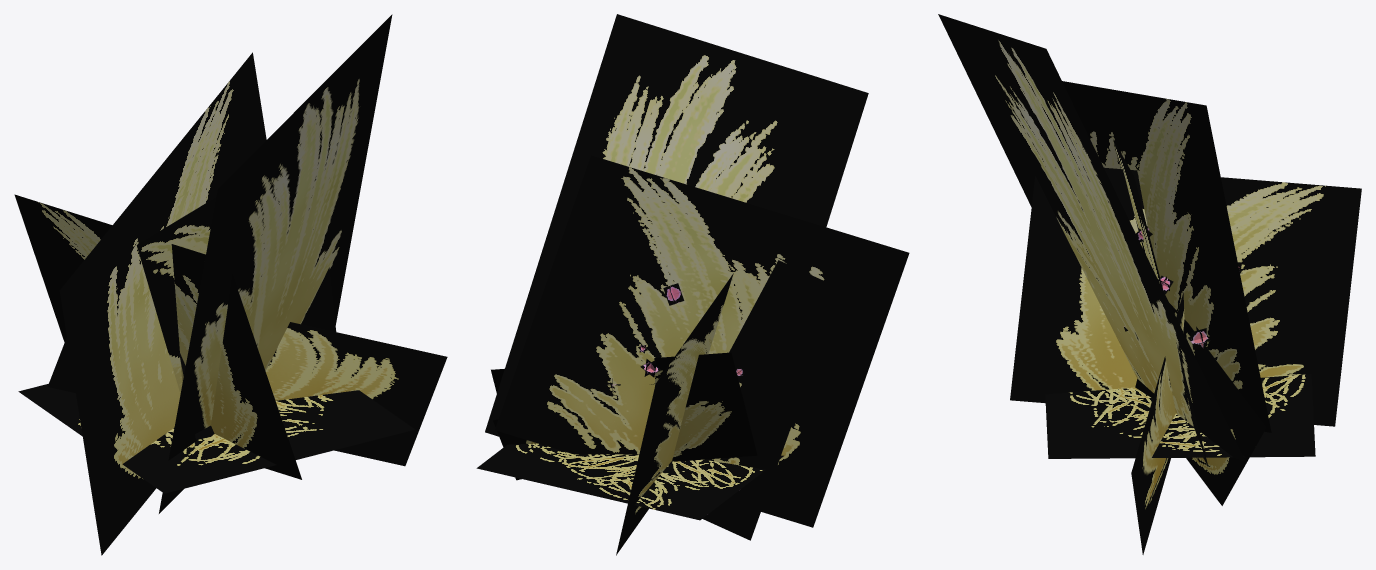
The model's file is grass21.fbx.
3 renders of one model, left to right at view 1: azimuth 30°, elevation 25°; view 2: azimuth 150°, elevation 25°; view 3: azimuth 270°, elevation 25°, orthographic. The views are drawn at different scales.
Visible parts, largest first — view 1: grass21_BAKED; view 2: grass21_BAKED; view 3: grass21_BAKED.
Part boxes in pixels (left/top/right/bottom): grass21_BAKED: left=14, top=14, right=447, bottom=555; grass21_BAKED: left=476, top=14, right=909, bottom=555; grass21_BAKED: left=938, top=14, right=1361, bottom=554.
Bounding box in the file's own units: 62.27 × 69.66 × 77.43.
